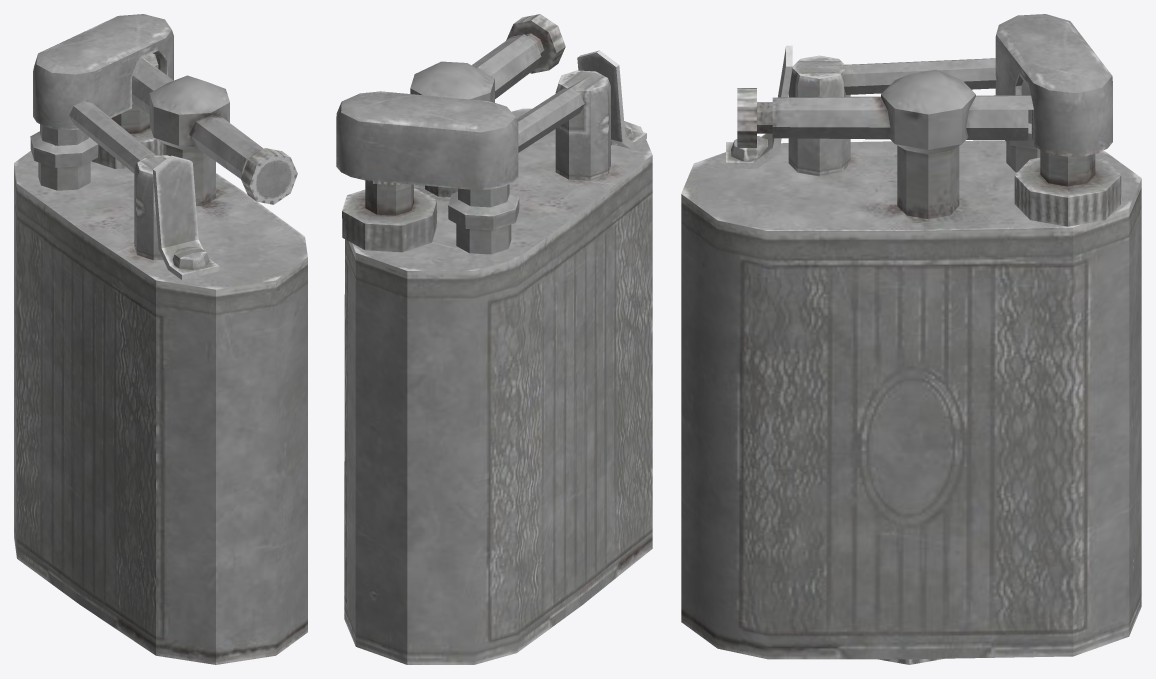
Rendered from lighter-table.glb.
3 renders of one model, left to right at view 1: azimuth 30°, elevation 25°; view 2: azimuth 150°, elevation 25°; view 3: azimuth 270°, elevation 25°, orthographic. The views are drawn at different scales.
Visible parts, largest first — view 1: lighter-table; view 2: lighter-table; view 3: lighter-table.
Boxes of the visible parts, x1,y1,x2,y2 form: lighter-table: [14, 14, 307, 664]; lighter-table: [336, 14, 652, 664]; lighter-table: [681, 14, 1141, 664].
Bounding box in the file's own units: 0.0266 × 0.08 × 0.0574.
1 material, 1 textured.
